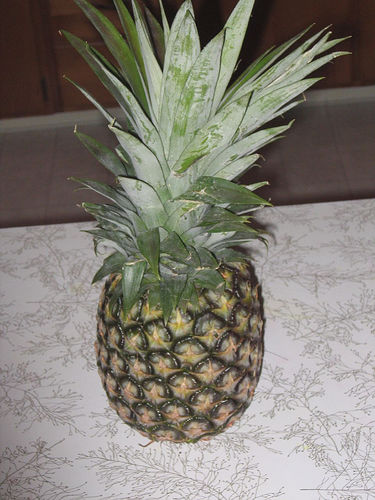pineapple: (58, 0, 350, 446)
